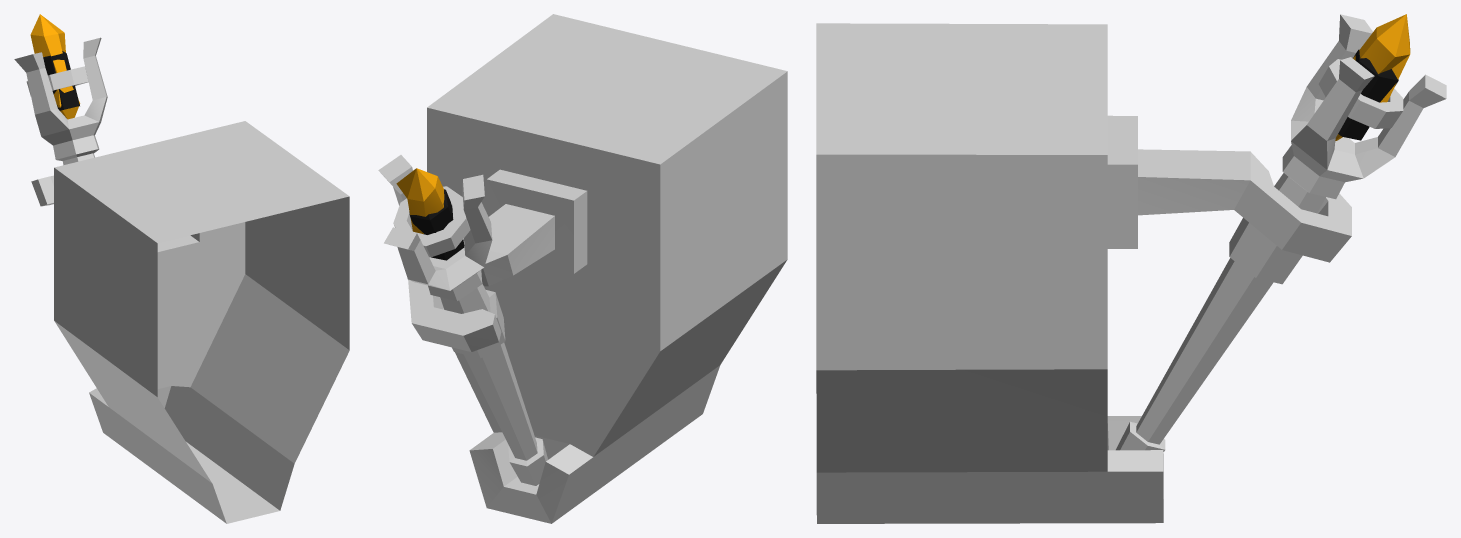
The model's file is NGF_Light_Torch_holder.fbx.
3 renders of one model, left to right at view 1: azimuth 30°, elevation 25°; view 2: azimuth 150°, elevation 25°; view 3: azimuth 270°, elevation 25°, orthographic. The views are drawn at different scales.
Visible parts, largest first — view 1: NGF_Light_Torch_holder, NGF_Light_Torch_03, NGF_Light_Crystal_1, NGF_Light_Coal_1; view 2: NGF_Light_Torch_holder, NGF_Light_Torch_03, NGF_Light_Crystal_1, NGF_Light_Coal_1; view 3: NGF_Light_Torch_holder, NGF_Light_Torch_03, NGF_Light_Crystal_1, NGF_Light_Coal_1.
Boxes of the visible parts, box(x1,y1,x2,y2) form: NGF_Light_Torch_holder: box(31, 121, 349, 523); NGF_Light_Torch_03: box(14, 37, 107, 165); NGF_Light_Crystal_1: box(30, 14, 80, 119); NGF_Light_Coal_1: box(43, 51, 79, 110); NGF_Light_Torch_holder: box(408, 14, 787, 523); NGF_Light_Torch_03: box(378, 155, 547, 485); NGF_Light_Crystal_1: box(396, 168, 444, 233); NGF_Light_Coal_1: box(409, 189, 464, 260); NGF_Light_Torch_holder: box(816, 23, 1351, 523); NGF_Light_Torch_03: box(1116, 14, 1446, 451); NGF_Light_Crystal_1: box(1335, 14, 1410, 140); NGF_Light_Coal_1: box(1338, 49, 1398, 140).
Bounding box in the file's own units: 0.4199 × 0.7308 × 0.852.
2 materials, 2 textured.
